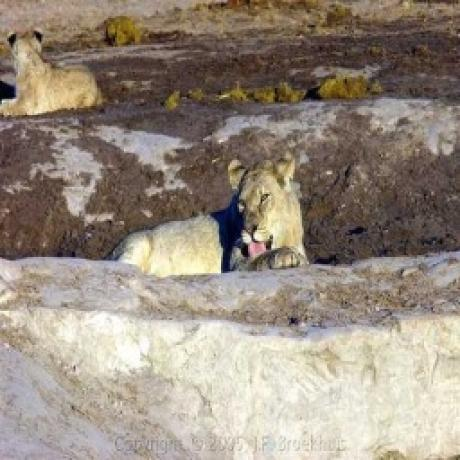Lion: (111, 152, 309, 271), (0, 28, 107, 116)
